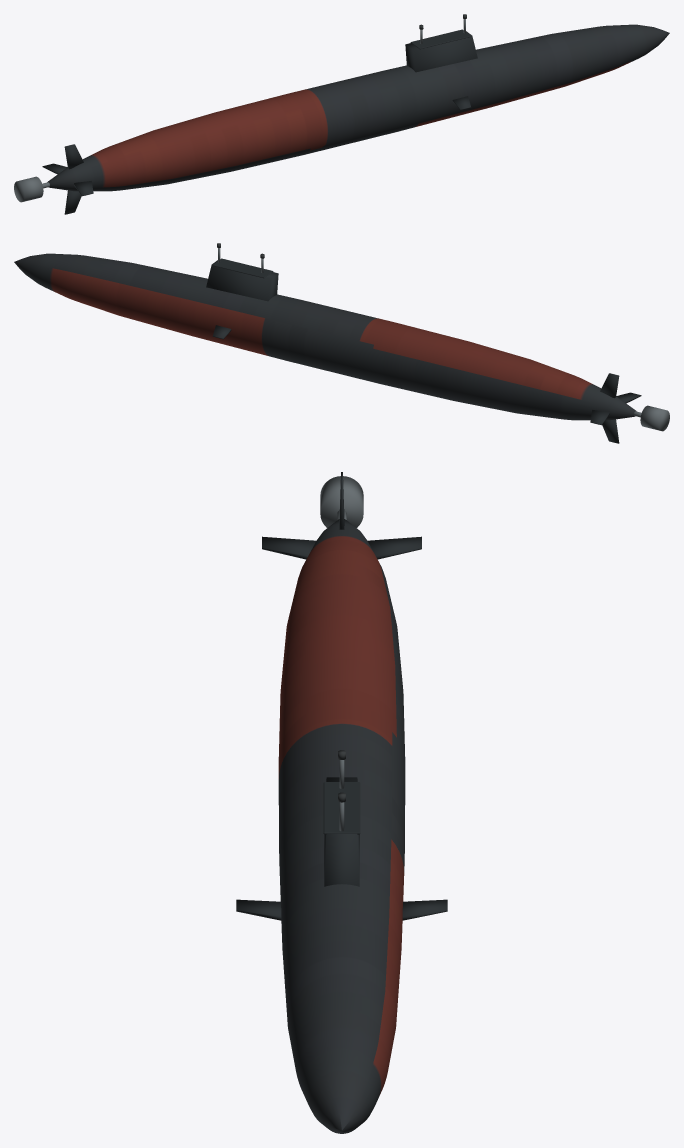
Rendered from FR_SSN_Suffren_LOD2.fbx.
3 renders of one model, top to bottom at view 1: azimuth 30°, elevation 25°; view 2: azimuth 150°, elevation 25°; view 3: azimuth 270°, elevation 25°, orthographic. The views are drawn at different scales.
Visible parts, largest first — view 1: FR_SSN_Suffren_LOD2; view 2: FR_SSN_Suffren_LOD2; view 3: FR_SSN_Suffren_LOD2.
Boxes of the visible parts, x1,y1,x2,y2 form: FR_SSN_Suffren_LOD2: (14, 14, 669, 214); FR_SSN_Suffren_LOD2: (14, 243, 669, 443); FR_SSN_Suffren_LOD2: (236, 472, 447, 1133).
Bounding box in the file's own units: 104 × 14.66 × 15.62.
Materials: 6 (1 with a texture image).
